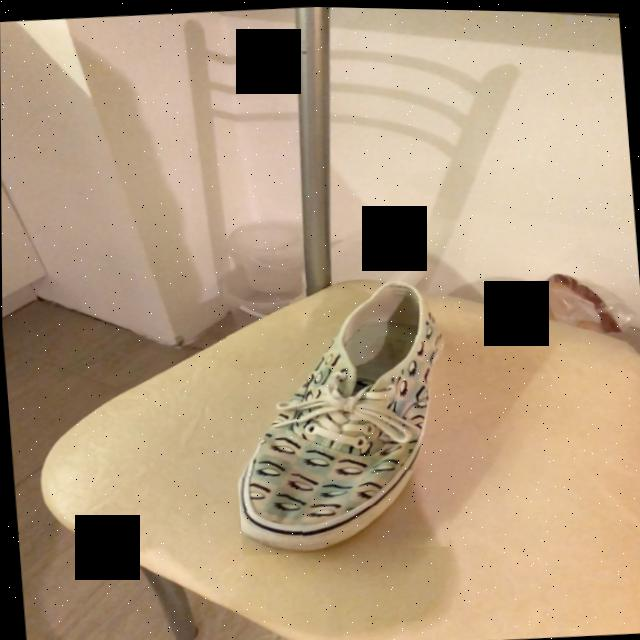shoe: (237, 282, 441, 552)
